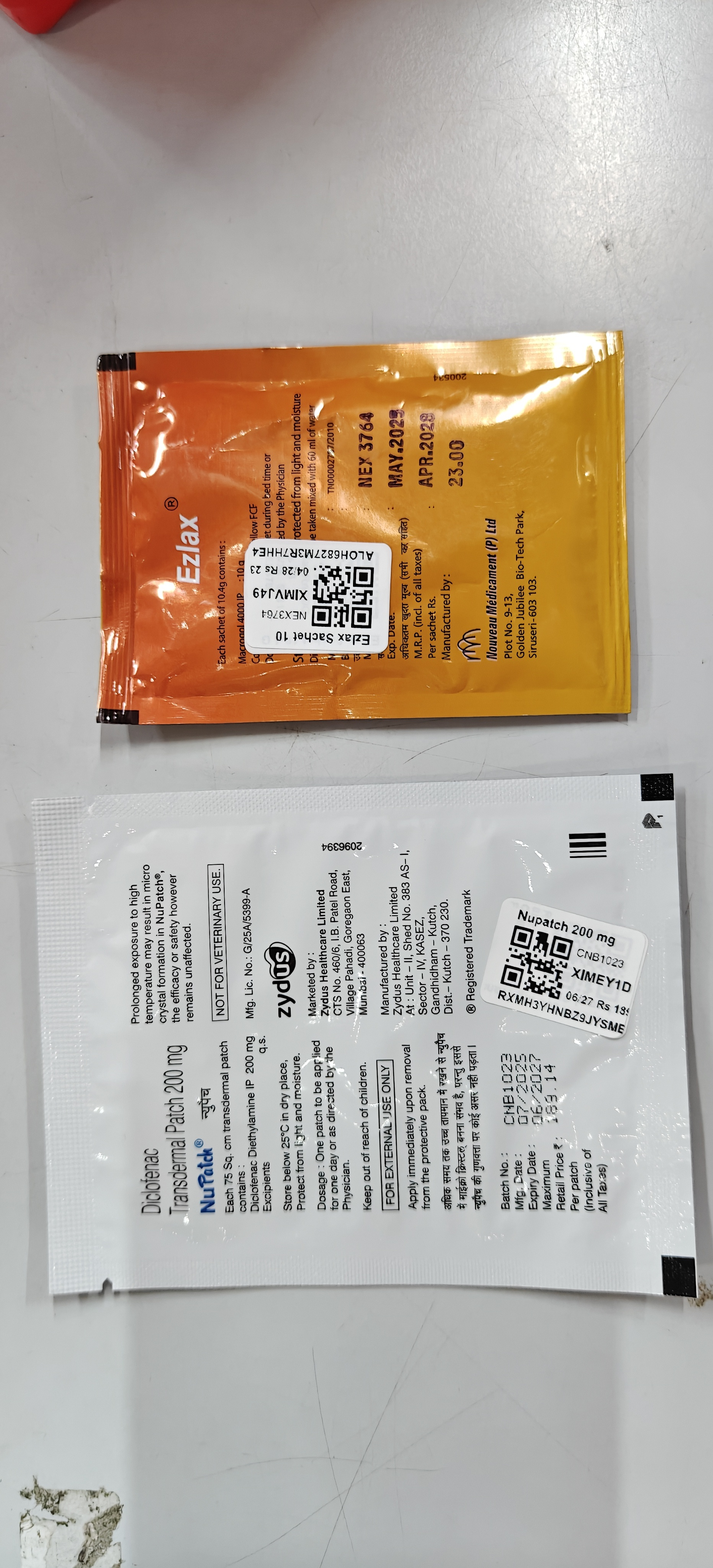qr_code: (500, 925, 573, 999), (311, 564, 374, 628)
